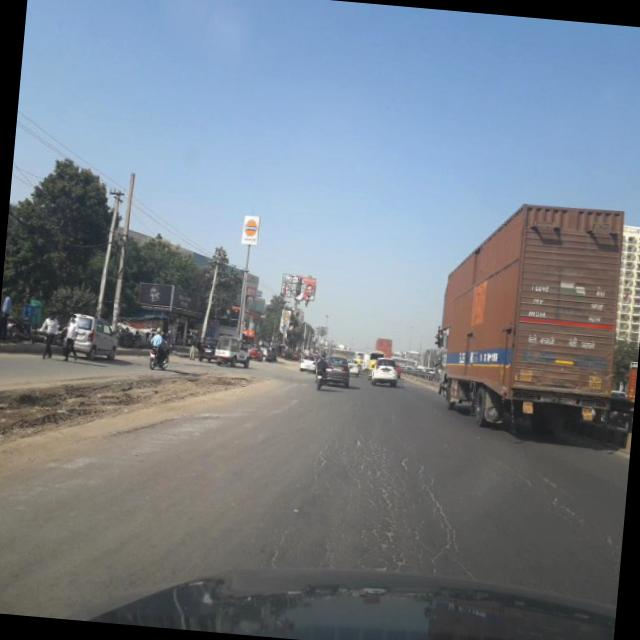crack: (260, 402, 491, 578), (504, 453, 622, 548)
